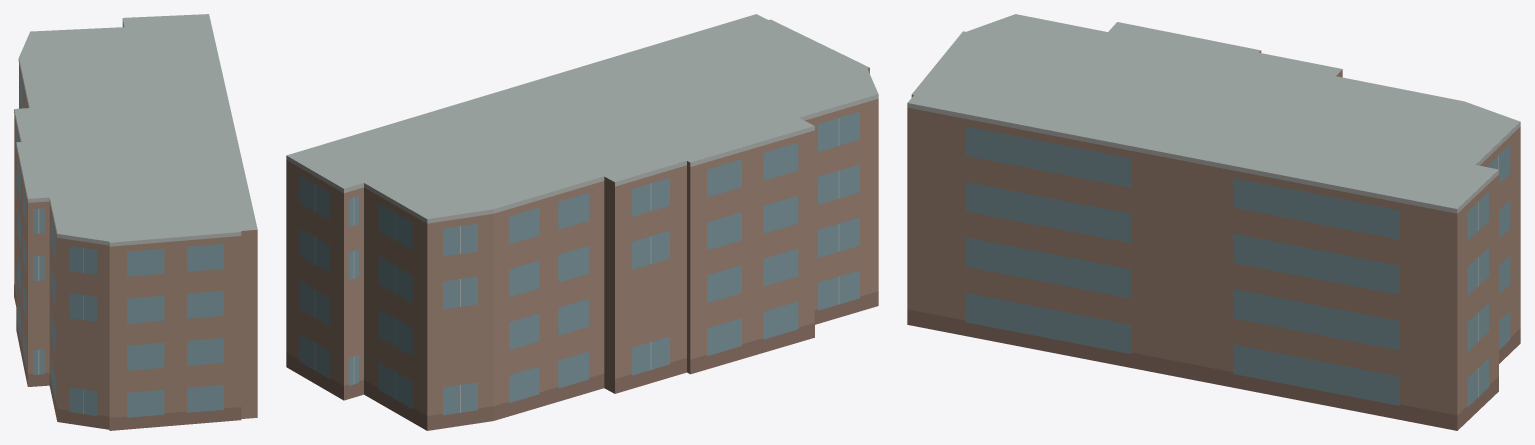
File: survey-upis-32920498.glb
The picture shows the model from 3 angles, left to right: view 1: azimuth 30°, elevation 25°; view 2: azimuth 150°, elevation 25°; view 3: azimuth 270°, elevation 25°; orthographic projection. The views are drawn at different scales.
Visible parts, largest first — view 1: survey-upis-32920498.tmp; view 2: survey-upis-32920498.tmp; view 3: survey-upis-32920498.tmp.
Boxes of the visible parts, x1,y1,x2,y2 form: survey-upis-32920498.tmp: (14,14,257,430); survey-upis-32920498.tmp: (286,14,878,430); survey-upis-32920498.tmp: (907,14,1520,430).
Bounding box in the file's own units: 22.08 × 11.7 × 29.32.
